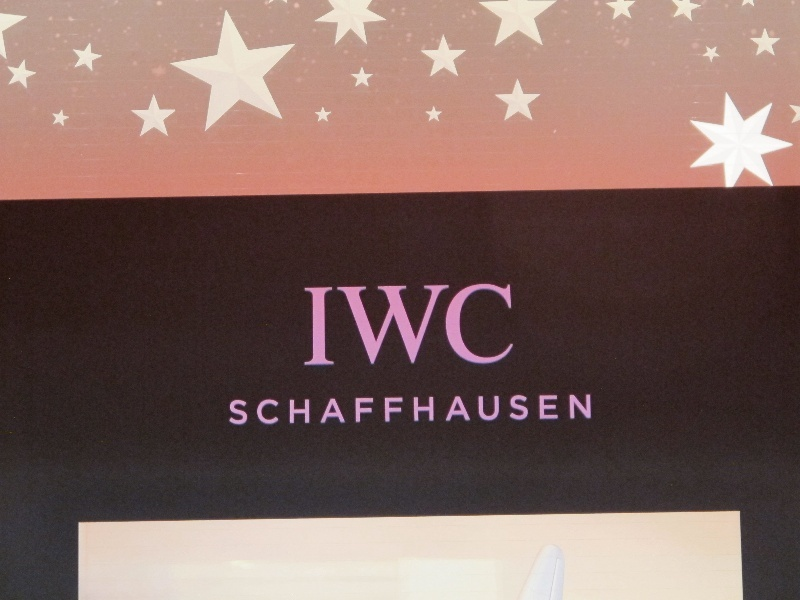text: (305, 285, 320, 367), (321, 285, 336, 367), (337, 285, 352, 367), (353, 285, 368, 367), (369, 285, 384, 367), (385, 285, 400, 367), (401, 285, 416, 367), (417, 285, 432, 367), (433, 285, 448, 367), (449, 285, 464, 367), (465, 285, 480, 367), (481, 285, 496, 367), (497, 285, 512, 367), (241, 395, 256, 426), (257, 395, 272, 426), (273, 395, 288, 426), (289, 395, 304, 426), (305, 395, 320, 426), (321, 395, 336, 426), (337, 395, 352, 426), (353, 395, 368, 426), (369, 395, 384, 426), (385, 395, 400, 426), (401, 395, 416, 426), (417, 395, 432, 426), (433, 395, 448, 426), (449, 395, 464, 426), (465, 395, 480, 426), (481, 395, 496, 426), (497, 395, 512, 426), (513, 395, 528, 426), (529, 395, 544, 426), (545, 395, 560, 426), (561, 395, 576, 426), (577, 395, 592, 426), (229, 395, 240, 426), (513, 285, 514, 367)
